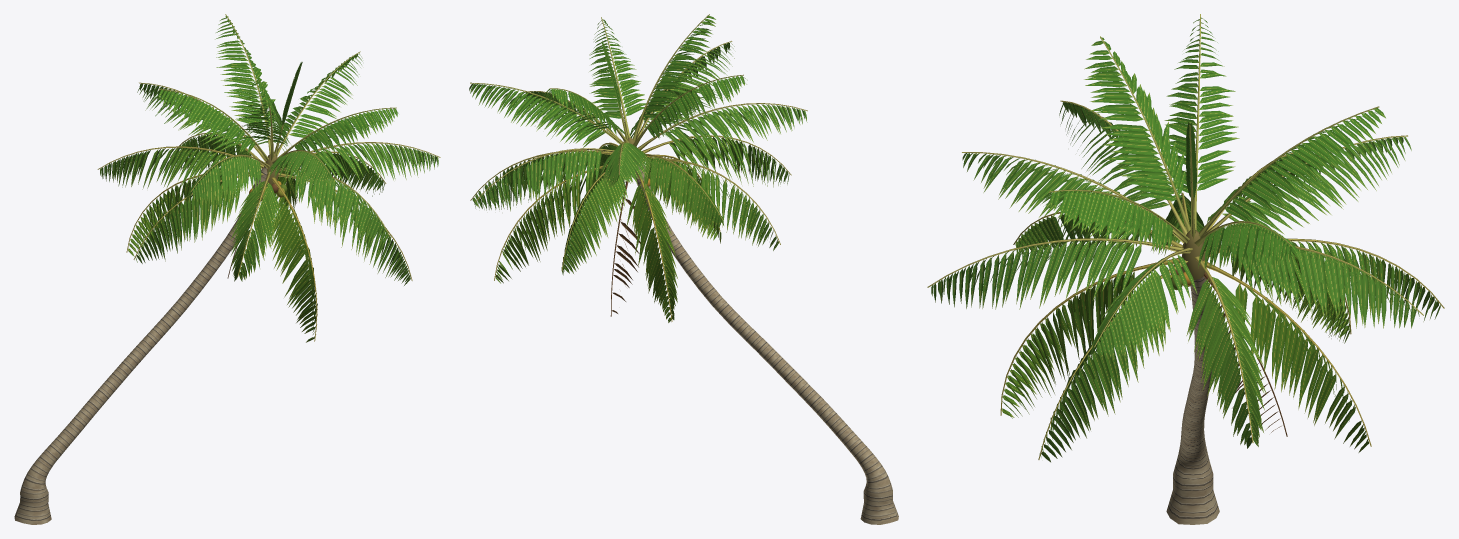
The picture shows the model from 3 angles, left to right: view 1: azimuth 30°, elevation 25°; view 2: azimuth 150°, elevation 25°; view 3: azimuth 270°, elevation 25°; orthographic projection. The views are drawn at different scales.
Visible parts, largest first — view 1: fronds, trunk; view 2: fronds, trunk, crown_husk; view 3: fronds, trunk, crown_husk.
Part boxes in pixels (bbox=[...]): fronds: bbox=[97, 14, 440, 342]; trunk: bbox=[14, 166, 267, 524]; fronds: bbox=[469, 14, 807, 322]; trunk: bbox=[635, 164, 898, 524]; crown_husk: bbox=[610, 137, 650, 316]; fronds: bbox=[927, 14, 1444, 462]; trunk: bbox=[1166, 276, 1219, 524]; crown_husk: bbox=[1170, 230, 1287, 436].
Bounding box in the file's own units: 12.32 × 12.47 × 9.42.
3 materials, 3 textured.
